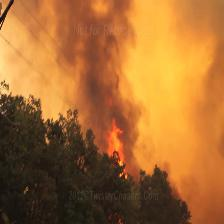fire: (98, 98, 146, 224)
smoke: (10, 0, 224, 119)
